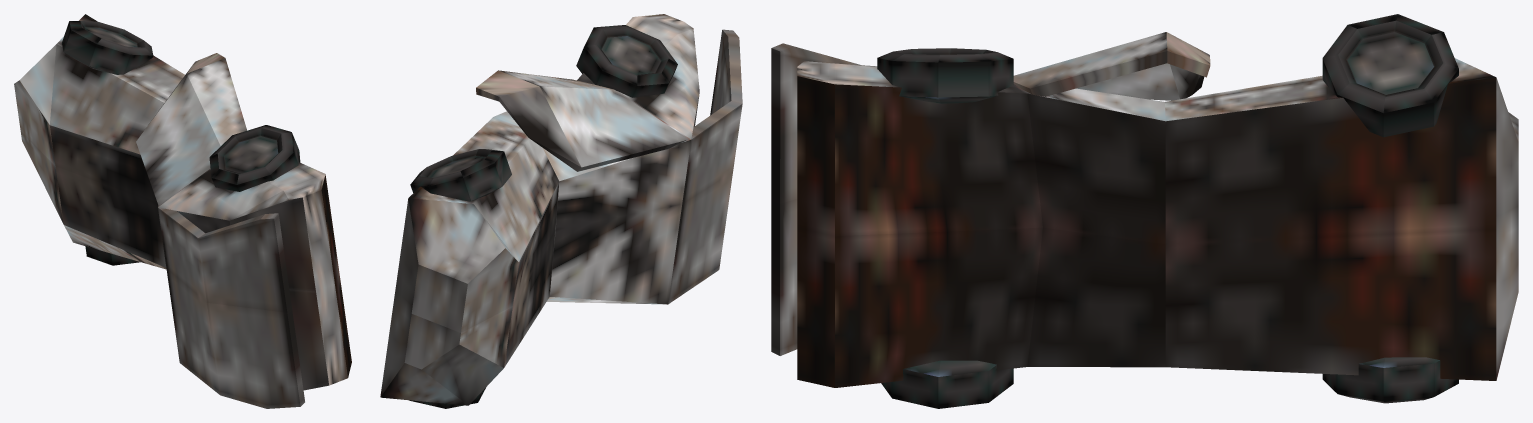
The model's file is Poly_SF_Outside_B_Wrecked_Car_01.obj.
The picture shows the model from 3 angles, left to right: view 1: azimuth 30°, elevation 25°; view 2: azimuth 150°, elevation 25°; view 3: azimuth 270°, elevation 25°; orthographic projection. The views are drawn at different scales.
Parts seen in each view (by area): view 1: car, car.002, car.001, front_wheels; view 2: car, car.001, car.002, front_wheels; view 3: car, front_wheels, car.002, car.001.
Part boxes in pixels (bbox=[...]): car: bbox=[14, 14, 351, 390]; car.002: bbox=[158, 207, 304, 408]; car.001: bbox=[136, 53, 246, 205]; front_wheels: bbox=[61, 21, 300, 265]; car: bbox=[380, 14, 699, 405]; car.001: bbox=[476, 70, 688, 171]; car.002: bbox=[668, 29, 742, 303]; front_wheels: bbox=[409, 25, 677, 408]; car: bbox=[797, 58, 1518, 387]; front_wheels: bbox=[877, 14, 1458, 408]; car.002: bbox=[771, 43, 861, 355]; car.001: bbox=[1013, 32, 1210, 100].
Bounding box in the file's own units: 0.8154 × 1.22 × 2.32.
1 material, 1 textured.
